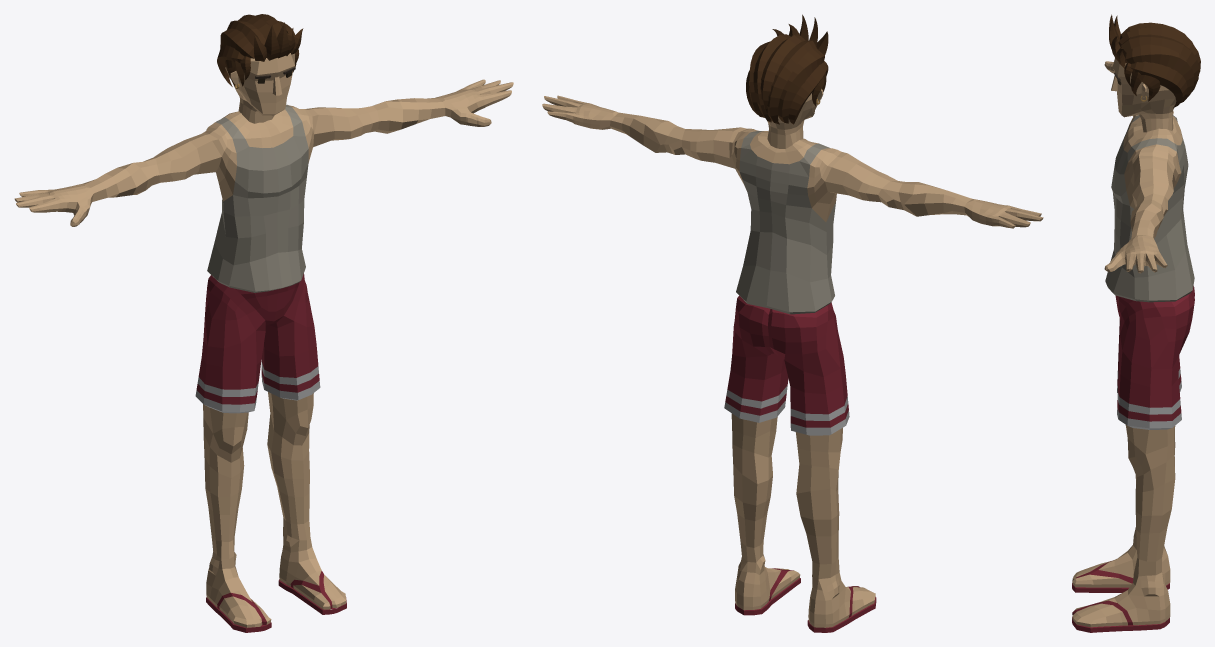
File: beach_character.glb
3 renders of one model, left to right at view 1: azimuth 30°, elevation 25°; view 2: azimuth 150°, elevation 25°; view 3: azimuth 270°, elevation 25°, orthographic.
Visible parts, largest first — view 1: Beach_Body_0b5807, Beach_Body_7f6796, Beach_Legs_e2a6bd, Beach_Legs_6cb016, Beach_Feet_7c52e9, Beach_Head_effebd, Beach_Head_7a573d, Beach_Legs_8adbd9, Beach_Feet; view 2: Beach_Body_0b5807, Beach_Body_7f6796, Beach_Legs_e2a6bd, Beach_Legs_6cb016, Beach_Head_effebd, Beach_Feet_7c52e9, Beach_Legs_8adbd9, Beach_Head_7a573d, Beach_Feet; view 3: Beach_Legs_e2a6bd, Beach_Body_7f6796, Beach_Body_0b5807, Beach_Legs_6cb016, Beach_Head_effebd, Beach_Feet_7c52e9, Beach_Head_7a573d, Beach_Feet, Beach_Legs_8adbd9.
Boxes of the visible parts, <box> form: Beach_Body_0b5807: <box>14,79,513,226</box>; Beach_Body_7f6796: <box>207,104,308,292</box>; Beach_Legs_e2a6bd: <box>196,273,319,404</box>; Beach_Legs_6cb016: <box>203,392,313,558</box>; Beach_Feet_7c52e9: <box>206,533,346,627</box>; Beach_Head_effebd: <box>217,14,303,86</box>; Beach_Head_7a573d: <box>225,53,294,123</box>; Beach_Legs_8adbd9: <box>195,362,320,413</box>; Beach_Feet: <box>206,571,346,632</box>; Beach_Body_0b5807: <box>542,95,1043,228</box>; Beach_Body_7f6796: <box>736,131,835,314</box>; Beach_Legs_e2a6bd: <box>725,295,848,427</box>; Beach_Legs_6cb016: <box>731,413,842,579</box>; Beach_Head_effebd: <box>746,14,828,124</box>; Beach_Feet_7c52e9: <box>735,554,875,627</box>; Beach_Legs_8adbd9: <box>724,385,849,435</box>; Beach_Head_7a573d: <box>767,89,823,148</box>; Beach_Feet: <box>735,568,876,632</box>; Beach_Legs_e2a6bd: <box>1115,286,1194,421</box>; Beach_Body_7f6796: <box>1105,115,1194,302</box>; Beach_Body_0b5807: <box>1104,61,1182,273</box>; Beach_Legs_6cb016: <box>1125,425,1175,576</box>; Beach_Head_effebd: <box>1109,14,1200,107</box>; Beach_Feet_7c52e9: <box>1072,536,1170,627</box>; Beach_Head_7a573d: <box>1111,58,1176,132</box>; Beach_Feet: <box>1072,561,1169,632</box>; Beach_Legs_8adbd9: <box>1117,368,1181,429</box>.
Bounding box in the file's own units: 1.6 × 1.8 × 0.3575.
